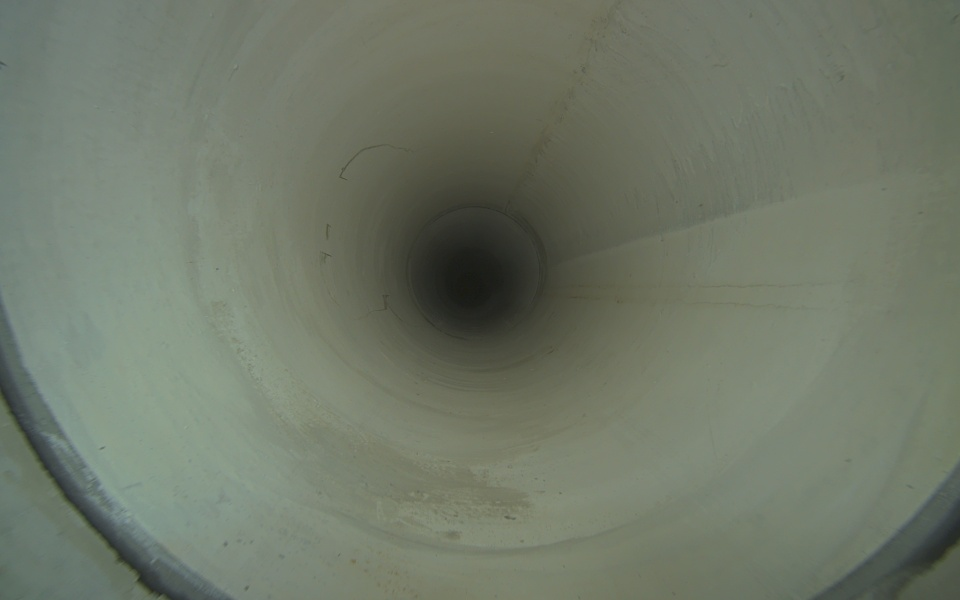circle1: (404, 200, 551, 343)
circle2: (448, 259, 496, 308)
